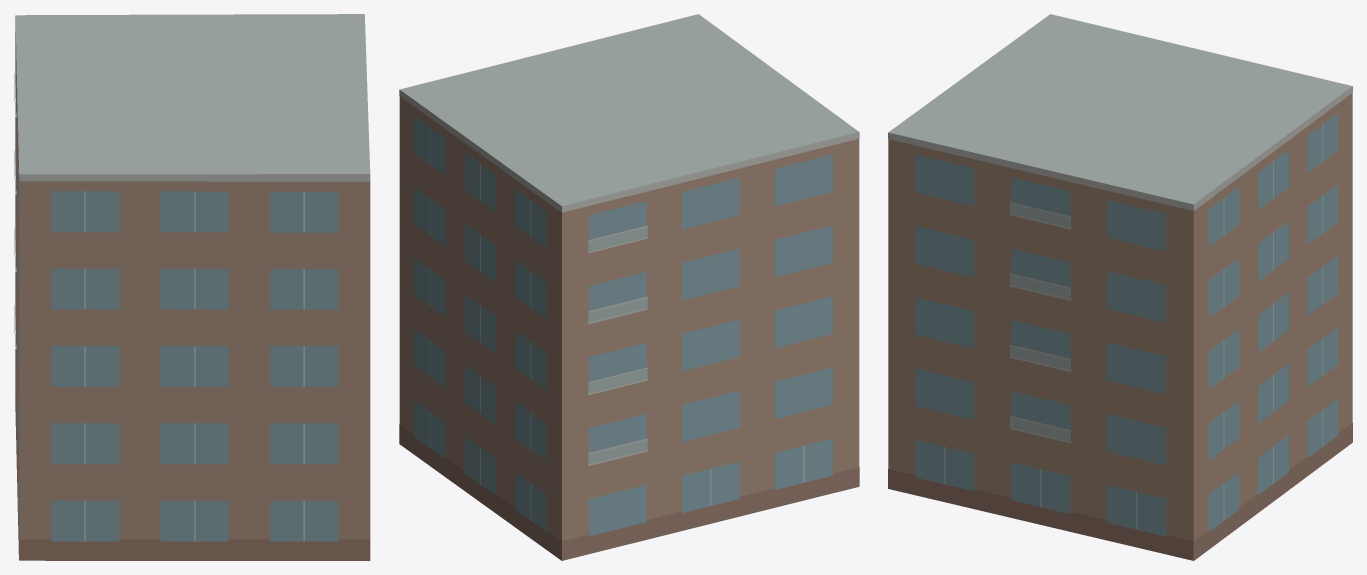
Rendered from survey-upis-32944183.glb.
The picture shows the model from 3 angles, left to right: view 1: azimuth 30°, elevation 25°; view 2: azimuth 150°, elevation 25°; view 3: azimuth 270°, elevation 25°; orthographic projection. The views are drawn at different scales.
Parts seen in each view (by area): view 1: survey-upis-32944183.tmp; view 2: survey-upis-32944183.tmp; view 3: survey-upis-32944183.tmp.
Part boxes in pixels (x1,y1,x2,y2): survey-upis-32944183.tmp: (14,14,370,560); survey-upis-32944183.tmp: (399,14,859,560); survey-upis-32944183.tmp: (888,14,1352,560).
Bounding box in the file's own units: 15.14 × 13.2 × 15.61.
